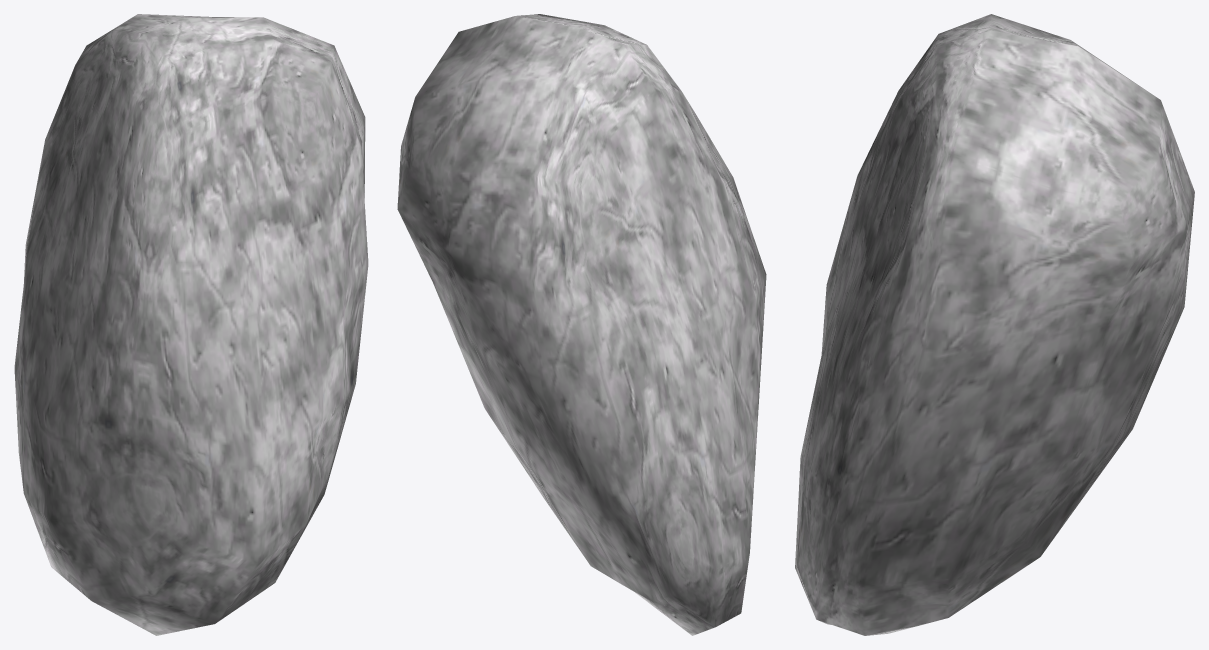
The model's file is INST_SWORDLIGHT_ROCKE.fbx.
3 views of the same model, side by side, from view 1: azimuth 30°, elevation 25°; view 2: azimuth 150°, elevation 25°; view 3: azimuth 270°, elevation 25° (orthographic). The views are drawn at different scales.
Visible parts, largest first — view 1: INST_SWORDLIGHT_ROCKE; view 2: INST_SWORDLIGHT_ROCKE; view 3: INST_SWORDLIGHT_ROCKE.
Boxes of the visible parts, left/top/right/bottom form: INST_SWORDLIGHT_ROCKE: left=14, top=14, right=368, bottom=635; INST_SWORDLIGHT_ROCKE: left=397, top=14, right=766, bottom=635; INST_SWORDLIGHT_ROCKE: left=795, top=14, right=1194, bottom=635.
Size of the model in its own units: 15130 by 26983 by 15130.
1 material, 1 textured.
